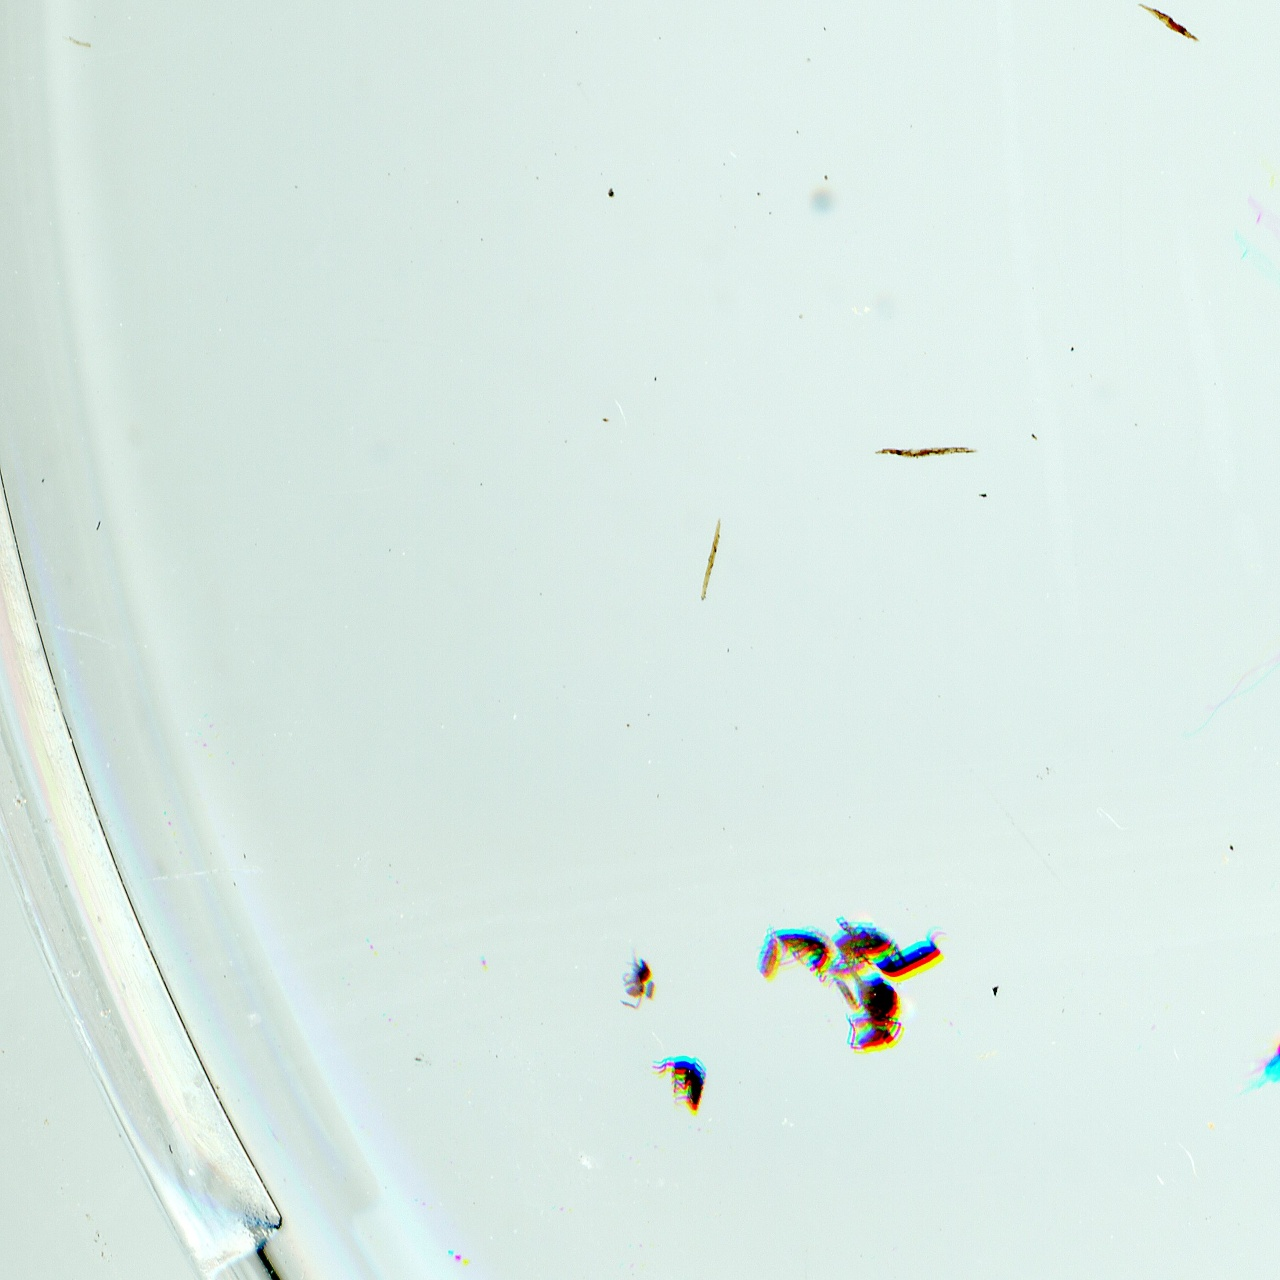arthropod: (1206, 962, 1280, 1122), (863, 917, 963, 998), (842, 972, 907, 1058), (829, 909, 900, 978), (648, 1055, 711, 1119), (776, 923, 835, 978), (620, 949, 656, 1010), (755, 926, 782, 983)
